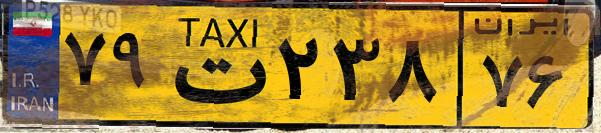2: (270, 28, 330, 110)
3: (330, 28, 385, 110)
6: (525, 38, 570, 115)
7: (57, 26, 110, 100), (475, 38, 525, 113)
8: (385, 28, 445, 110)
9: (110, 28, 158, 98)
ت: (158, 12, 270, 120)
